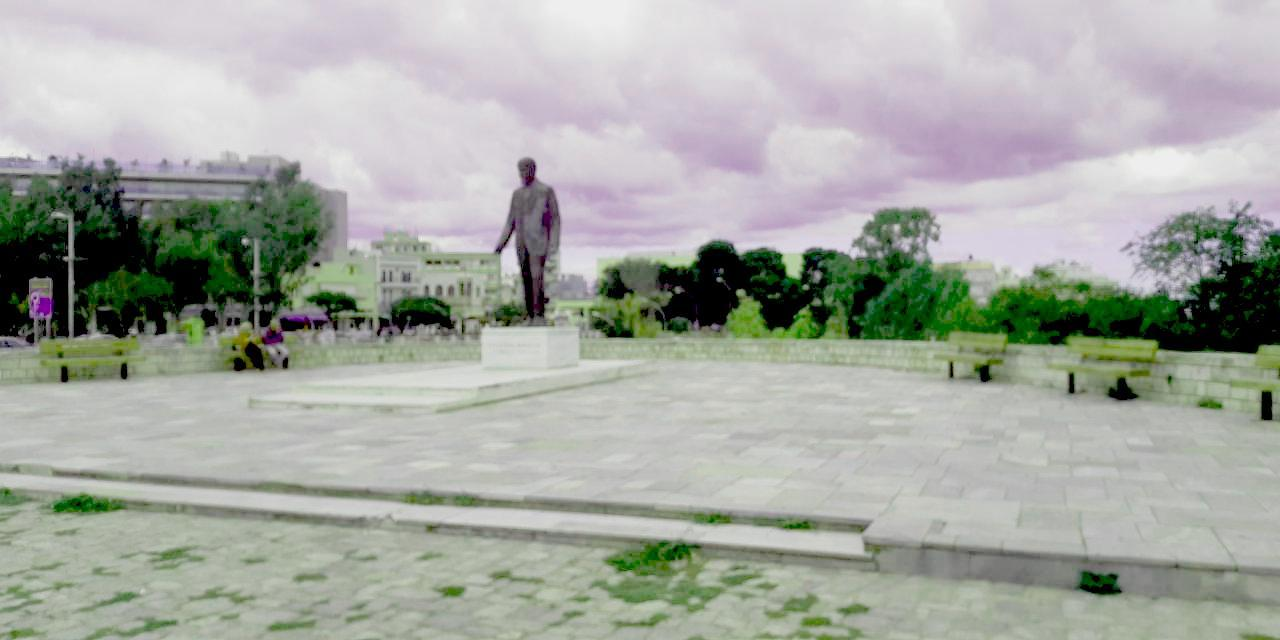Venizelos: (493, 157, 564, 328)
